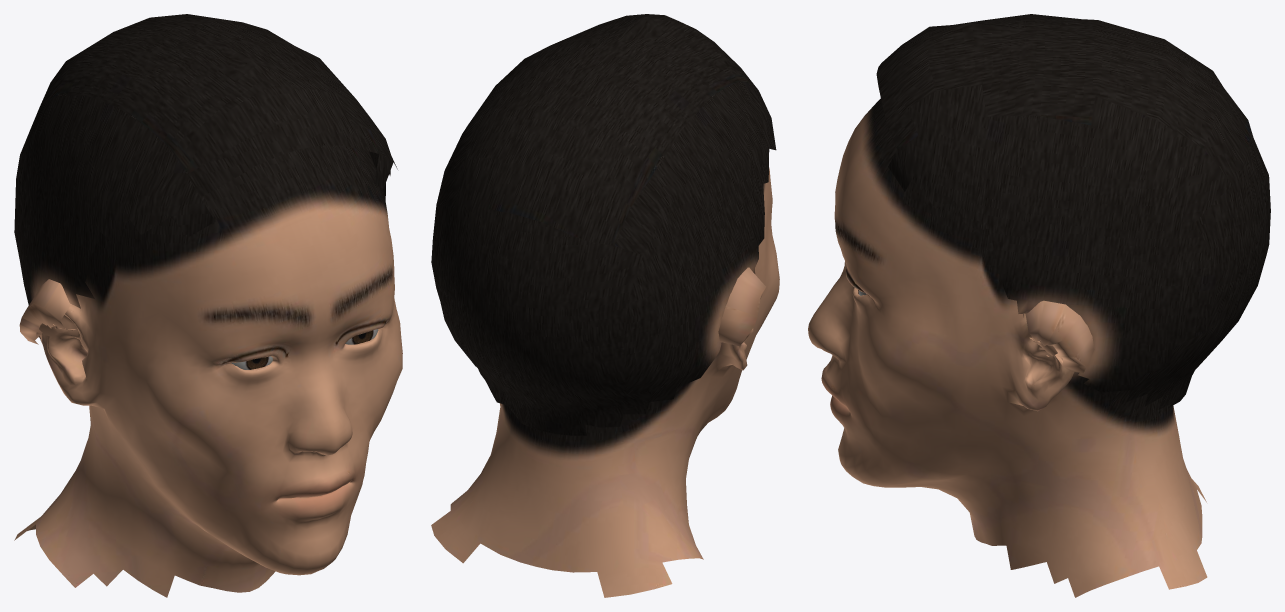
Rendered from head_ling.glb.
3 views of the same model, side by side, from view 1: azimuth 30°, elevation 25°; view 2: azimuth 150°, elevation 25°; view 3: azimuth 270°, elevation 25° (orthographic). The views are drawn at different scales.
Parts seen in each view (by area): view 1: mixamorigHead__head, mixamorigHead__hair, mixamorigHead__eyes; view 2: mixamorigHead__hair, mixamorigHead__head; view 3: mixamorigHead__hair, mixamorigHead__head.
Boxes of the visible parts, x1,y1,x2,y2 form: mixamorigHead__head: [14, 145, 402, 597]; mixamorigHead__hair: [14, 14, 397, 344]; mixamorigHead__eyes: [231, 329, 378, 369]; mixamorigHead__hair: [431, 14, 776, 435]; mixamorigHead__head: [431, 167, 779, 597]; mixamorigHead__hair: [876, 14, 1270, 409]; mixamorigHead__head: [808, 98, 1207, 597].
Size of the model in its own units: 19.41 by 28.01 by 22.71.
Materials: 2 (2 with a texture image).
